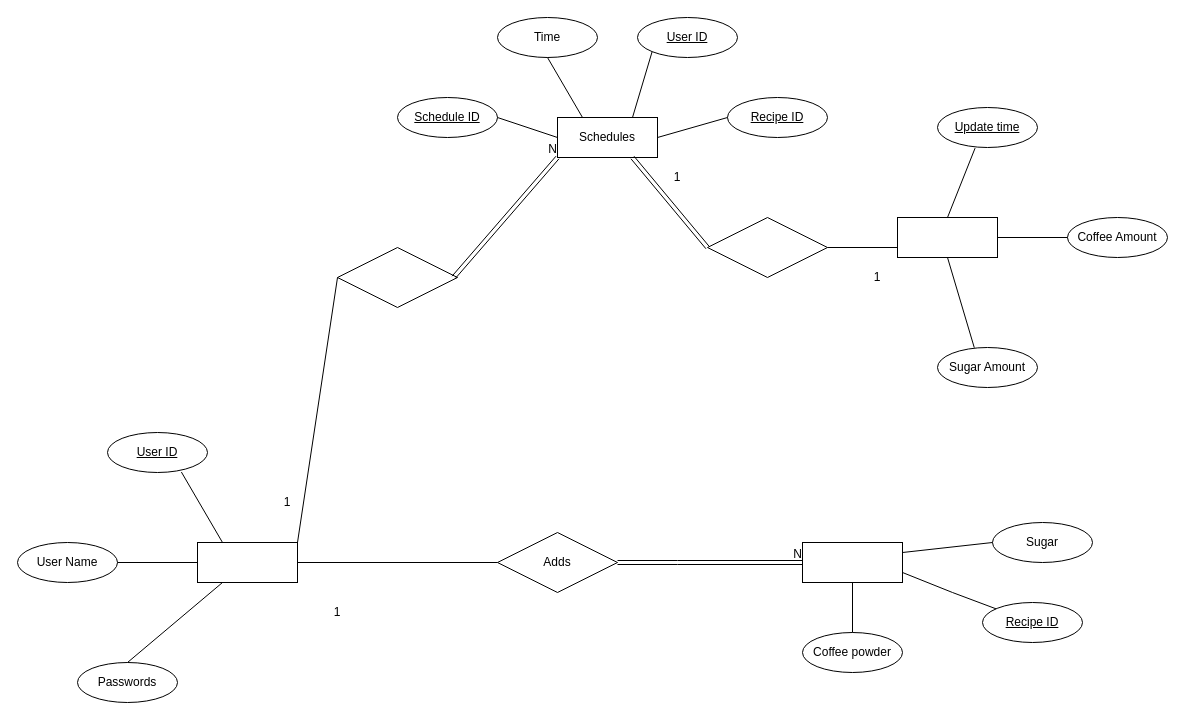
The diagram is 1185 pixels wide and 720 high, and some of its shapes have lost their labels. The shapes that lost their labels are listed below. From the top down, each one's box as (x1, y1, x2, y2) in pixels, then its label:
(706, 216, 828, 278): Updates
(896, 216, 998, 258): Ingredients
(336, 246, 458, 308): Decides
(196, 542, 298, 582): Users
(802, 542, 902, 582): Recipe
